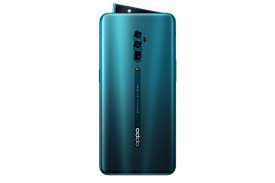oppo: (98, 9, 177, 177)
